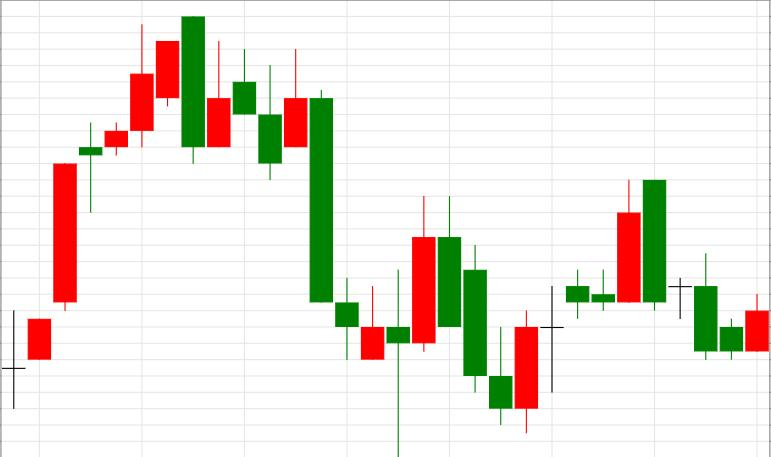bearish_engulfing_fall: (28, 17, 204, 361), (490, 181, 666, 435)
bullish_engulfing_rise: (439, 197, 537, 434)
